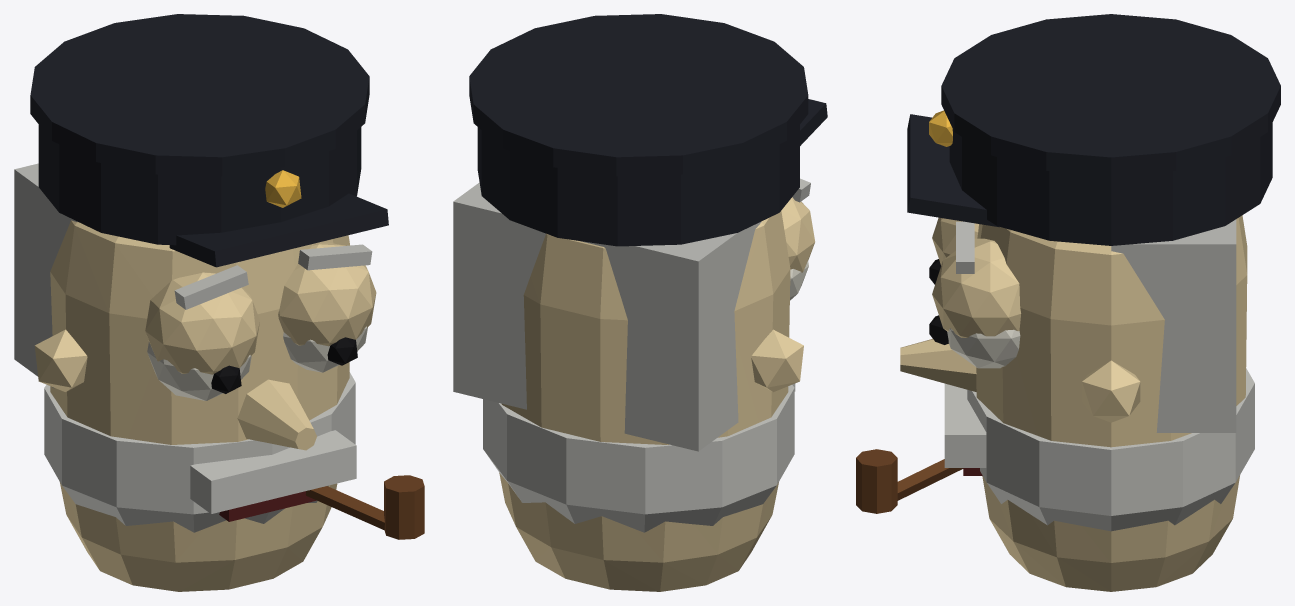
The model's file is PersonLighthouseHead.obj.
3 renders of one model, left to right at view 1: azimuth 30°, elevation 25°; view 2: azimuth 150°, elevation 25°; view 3: azimuth 270°, elevation 25°, orthographic.
Visible parts, largest first — view 1: PersonLighthouseHead; view 2: PersonLighthouseHead; view 3: PersonLighthouseHead.
Part boxes in pixels (x1,y1,x2,y2): PersonLighthouseHead: (14, 14, 424, 591); PersonLighthouseHead: (453, 14, 827, 591); PersonLighthouseHead: (856, 14, 1280, 591).
Bounding box in the file's own units: 0.355 × 0.485 × 0.408.
